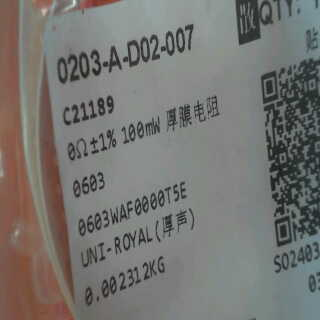0R: (64, 124, 121, 201)
